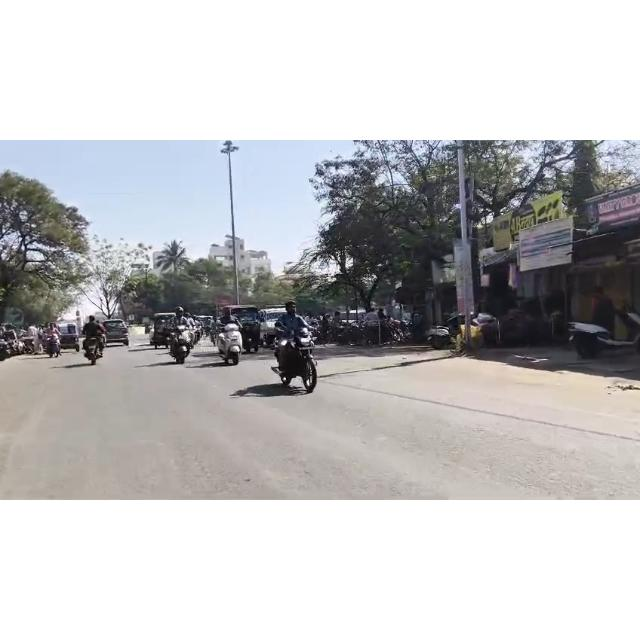auto: (215, 303, 265, 354), (151, 309, 178, 347), (53, 319, 83, 353)
car: (101, 316, 132, 348)
